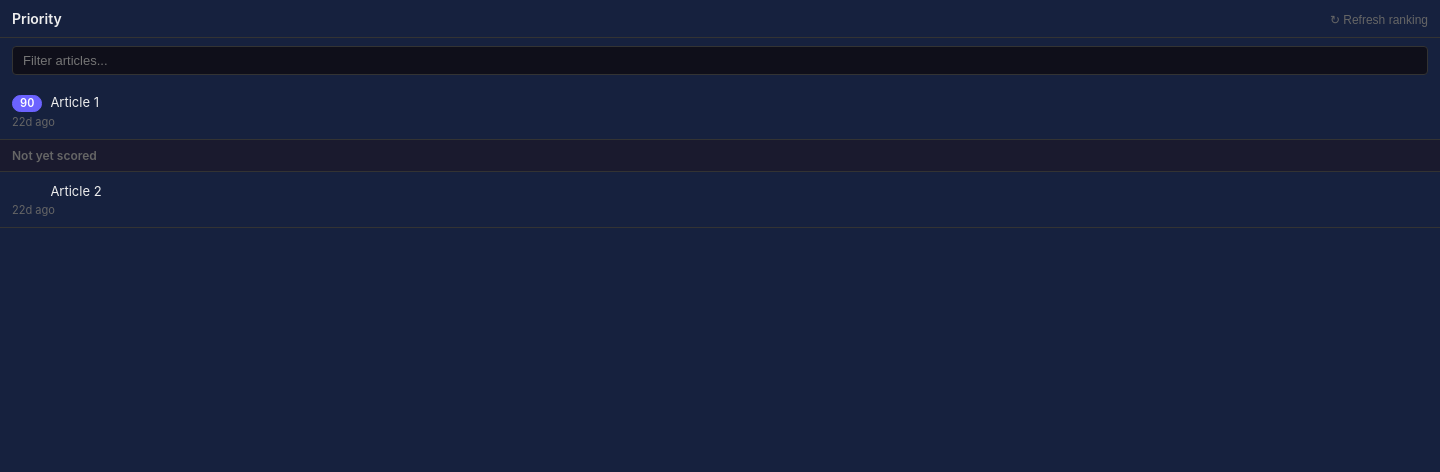
PriorityList › showsNoMatchesForTheFilter
The image size is (1440, 472).
Expected: the text "Article 1" is shown, [50,93,99,111]
In the field with placeholder "Filter articles...": (720, 60) [12,46,1428,75], type "zzz"
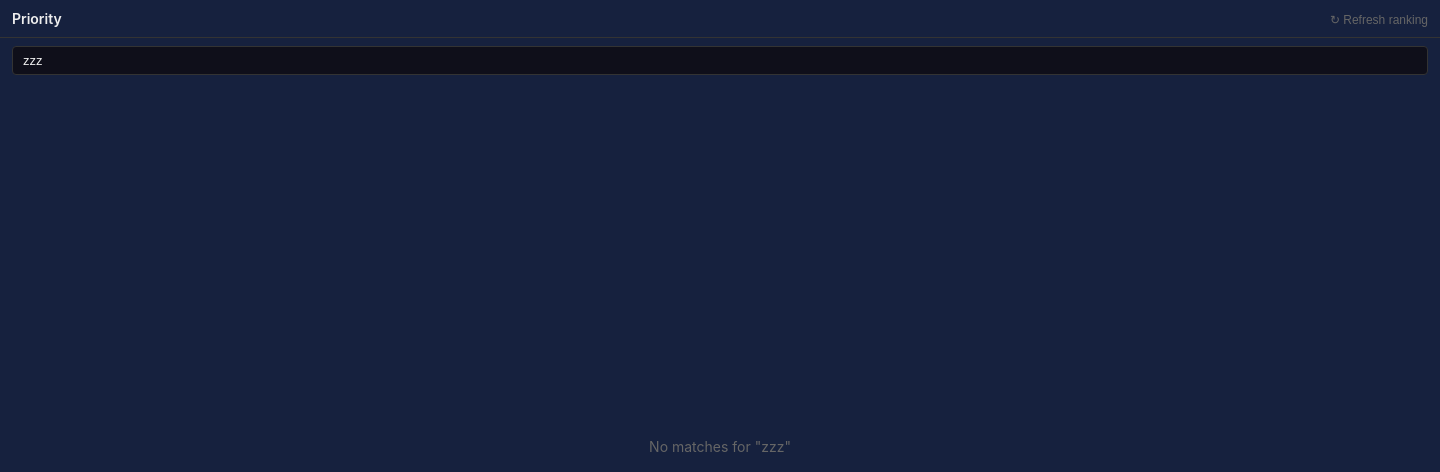
Expected: the text "No matches for \"zzz\"" is shown, [649,438,791,455]
